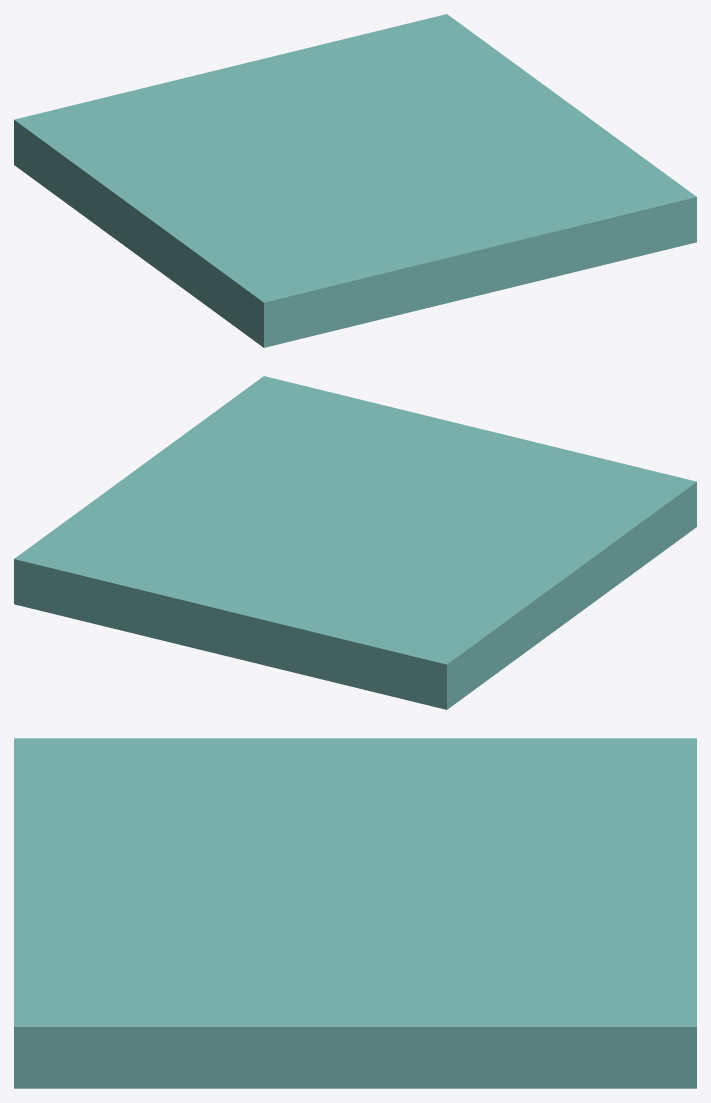
File: EspacioInicialTechoInteriorAltoNS.gltf
3 views of the same model, one above another, from view 1: azimuth 30°, elevation 25°; view 2: azimuth 150°, elevation 25°; view 3: azimuth 270°, elevation 25° (orthographic). The views are drawn at different scales.
Visible parts, largest first — view 1: Techo; view 2: Techo; view 3: Techo.
Boxes of the visible parts, <box> form: Techo: <box>14,14,696,347</box>; Techo: <box>14,376,696,709</box>; Techo: <box>14,738,696,1088</box>.
Bounding box in the file's own units: 2 × 0.1999 × 2.
